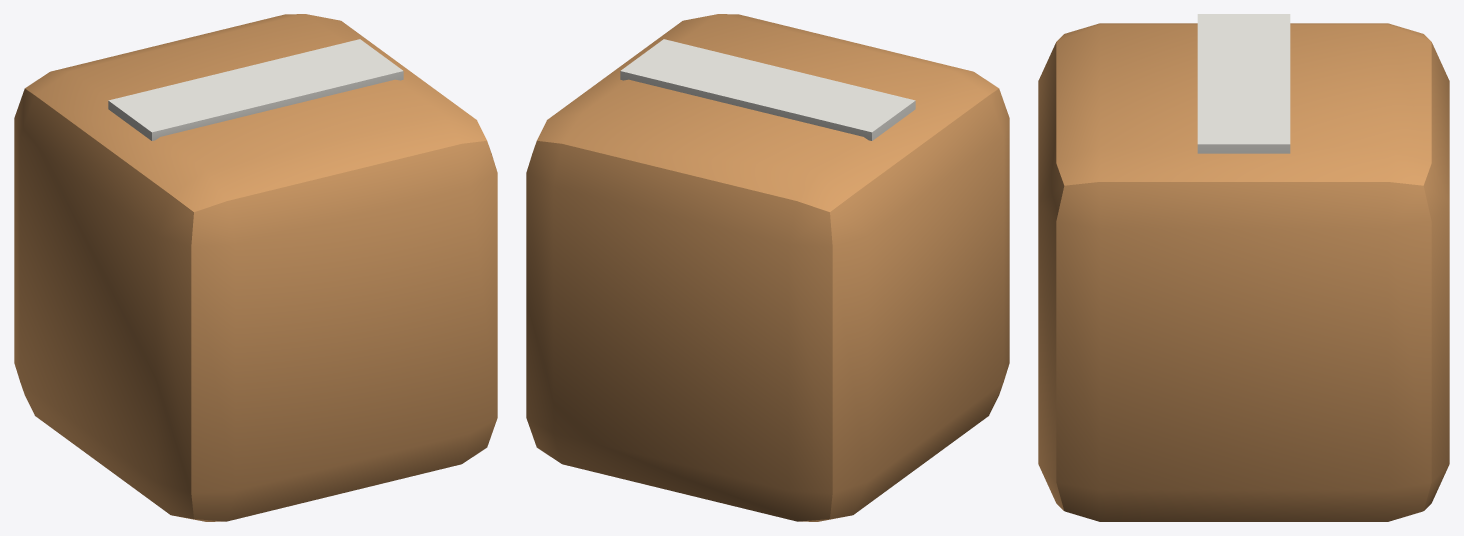
Rendered from crate.glb.
3 views of the same model, side by side, from view 1: azimuth 30°, elevation 25°; view 2: azimuth 150°, elevation 25°; view 3: azimuth 270°, elevation 25° (orthographic). The views are drawn at different scales.
Parts seen in each view (by area): view 1: crate; view 2: crate; view 3: crate.
Part boxes in pixels (box(x1,y1,x2,y2)): crate: box(14, 14, 497, 521); crate: box(526, 14, 1009, 521); crate: box(1038, 14, 1449, 521).
Size of the model in its own units: 0.8 by 0.815 by 0.8.
